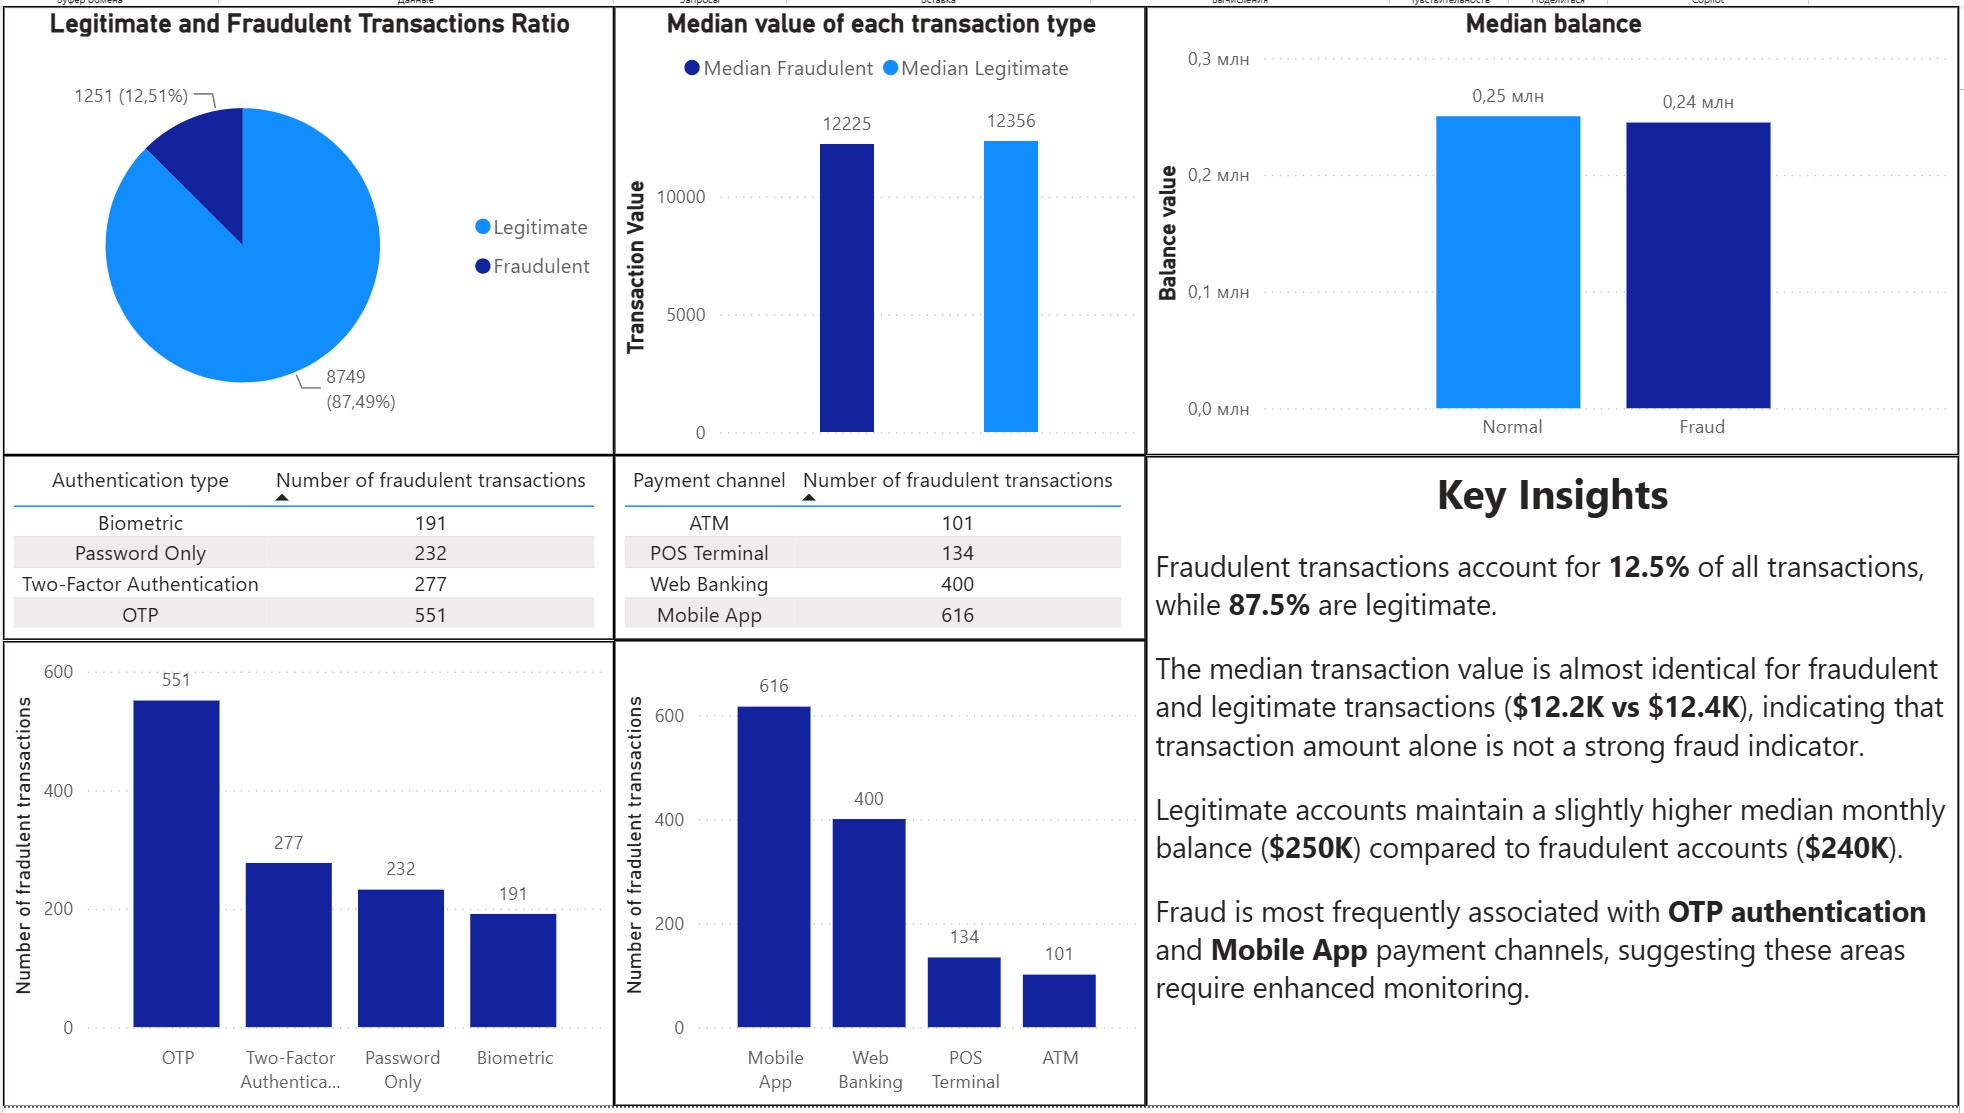

The page's visual inventory and layout, read from the dashboard file:
{"tool":"powerbi","page":{"name":"General","canvas":[1280,720],"ordinal":0},"visuals":[{"type":"clusteredColumnChart","title":"Median value of each transaction type","fields":{"Y":["bank_trans_clean.Median Fraudulent Transaction","bank_trans_clean.Median Legitimate Transaction"],"Category":["bank_trans_clean.Fraud Status"]},"box":[399.9,-0.3,348.3,294.2],"z":0},{"type":"pieChart","title":"Legitimate and Fraudulent Transactions Ratio","fields":{"Y":["bank_trans_clean.Legitimate","bank_trans_clean.Fraudulent"]},"box":[0.2,-0.3,399.8,294.2],"z":1000},{"type":"tableEx","fields":{"Values":["bank_trans_clean.authentication_type","bank_trans_clean.fraud_flag"]},"box":[0.2,293.9,399.8,121.4],"z":2000},{"type":"tableEx","fields":{"Values":["bank_trans_clean.payment_channel","bank_trans_clean.fraud_flag"]},"box":[399.9,293.9,348.3,121.4],"z":3000},{"type":"clusteredColumnChart","title":"Number of fradulent transactions of each autentification type","fields":{"Category":["bank_trans_clean.authentication_type"],"Y":["CountNonNull(bank_trans_clean.fraud_flag)"]},"box":[0,415.6,399.9,304.7],"z":4000},{"type":"clusteredColumnChart","fields":{"Category":["bank_trans_clean.payment_channel"],"Y":["CountNonNull(bank_trans_clean.fraud_flag)"]},"box":[399.9,414.9,348.2,305.4],"z":5000},{"type":"clusteredColumnChart","title":"Median balance","fields":{"Y":["Median(bank_trans_clean.avg_monthly_balance)"],"Category":["bank_trans_clean.Fraud Status"]},"box":[748.1,0,531.9,294.2],"z":6000},{"type":"textbox","box":[748.1,294.2,531.9,425.6],"z":7000}]}

Visuals, with their boxes in screenshot pixels (x1, y1, x2, y2), scaled from the page's 1280x720 canvas onto the 1964x1113 screenshot:
"Median value of each transaction type" clusteredColumnChart: 614/0/1148/454
"Legitimate and Fraudulent Transactions Ratio" pieChart: 0/0/614/454
tableEx - bank_trans_clean.authentication_type x bank_trans_clean.fraud_flag: 0/454/614/642
tableEx - bank_trans_clean.payment_channel x bank_trans_clean.fraud_flag: 614/454/1148/642
"Number of fradulent transactions of each autentification type" clusteredColumnChart: 0/642/614/1112
clusteredColumnChart - bank_trans_clean.payment_channel x CountNonNull(bank_trans_clean.fraud_flag): 614/641/1148/1112
"Median balance" clusteredColumnChart: 1148/0/1963/455
textbox: 1148/455/1963/1112
